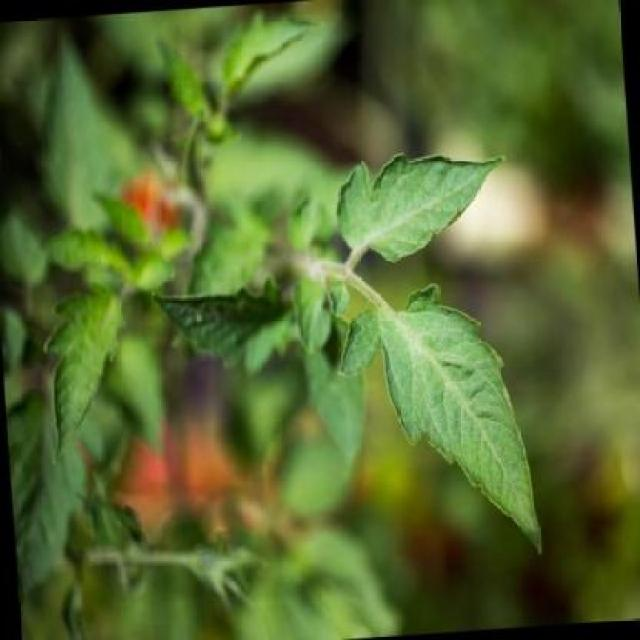Healthy Leaf: (362, 279, 569, 586), (312, 130, 536, 268), (20, 265, 157, 480)
